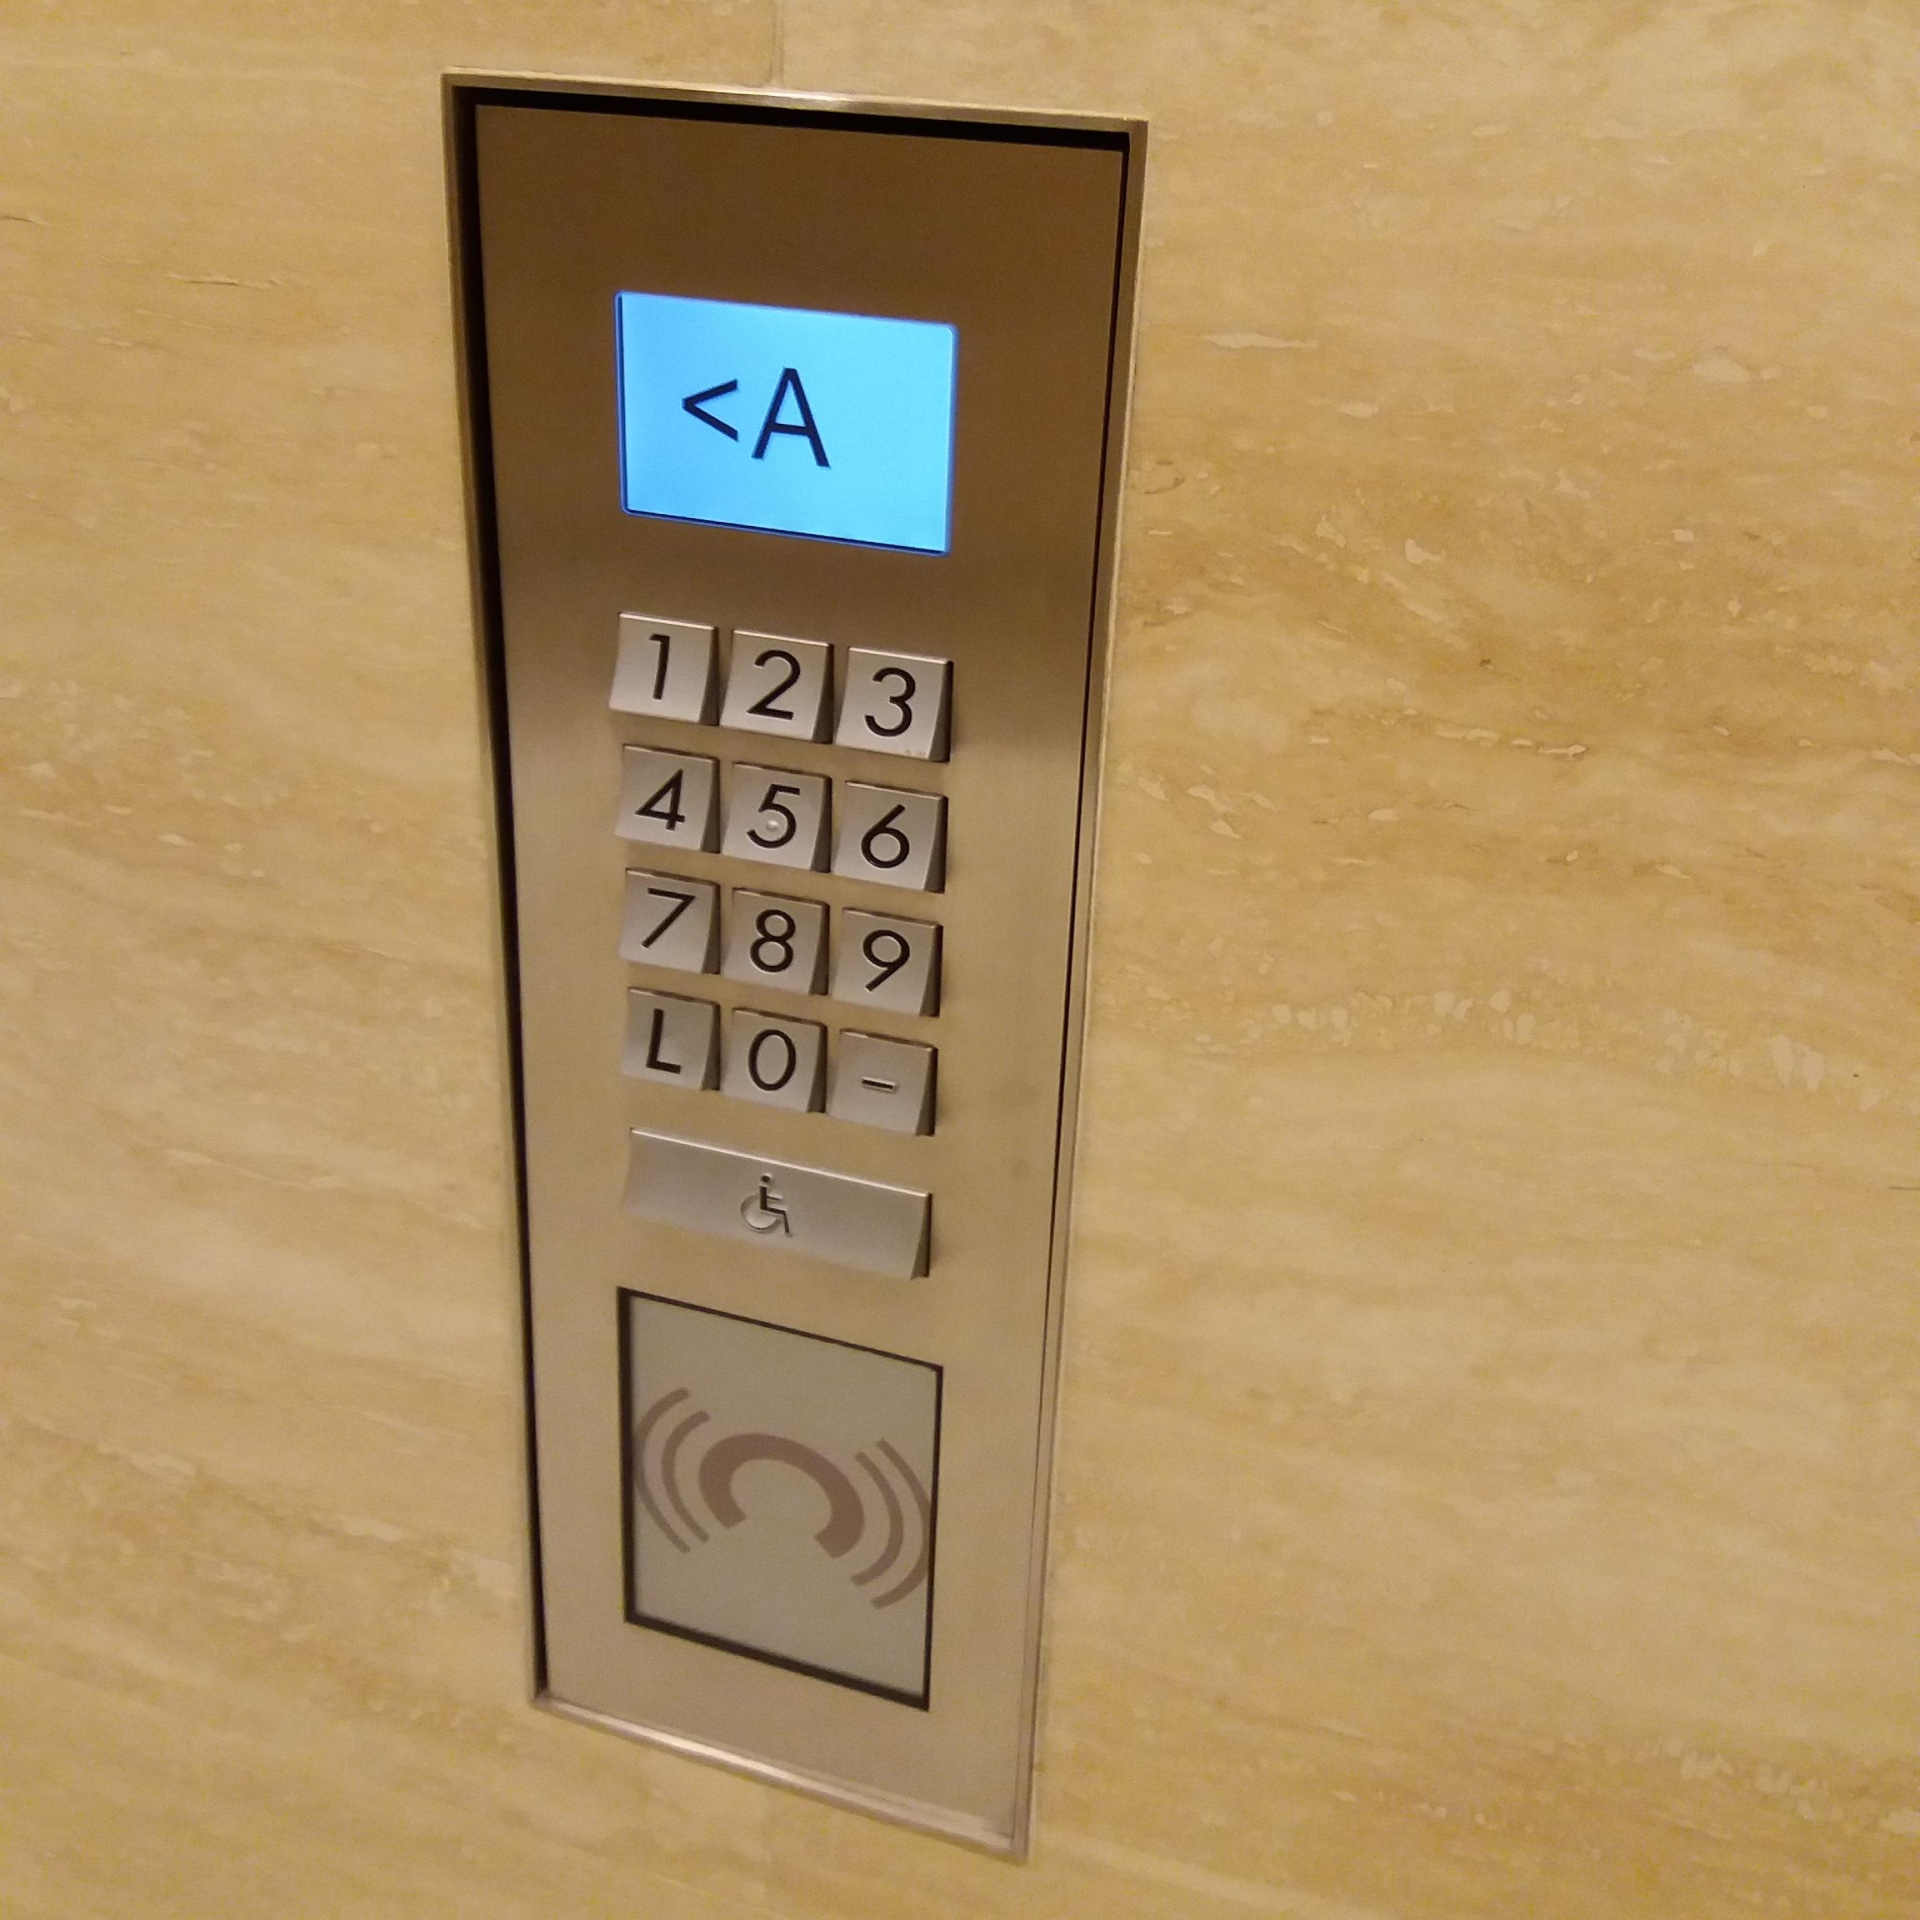-: (826, 1027, 935, 1136)
0: (716, 1006, 823, 1116)
1: (608, 610, 714, 726)
2: (723, 629, 830, 738)
3: (832, 647, 948, 760)
4: (612, 740, 714, 858)
5: (714, 765, 826, 870)
6: (828, 779, 942, 886)
7: (614, 874, 716, 976)
8: (724, 890, 825, 995)
9: (828, 907, 939, 1020)
CH: (614, 1129, 930, 1284)
L: (621, 986, 714, 1094)
led: (610, 292, 955, 554)
